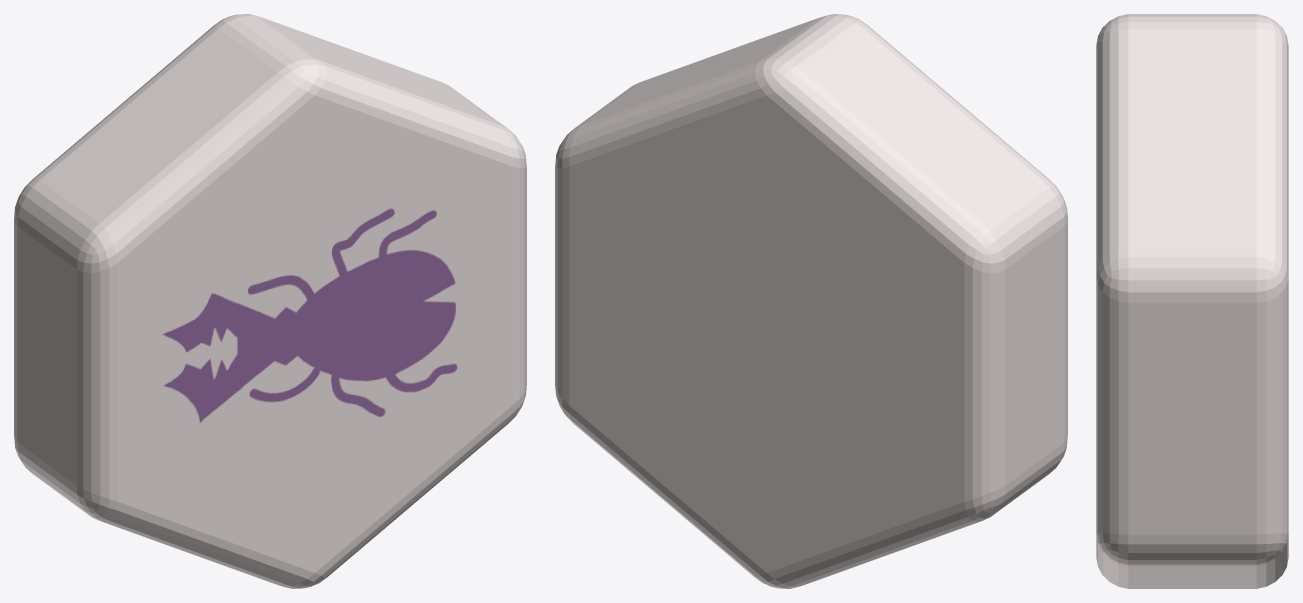
3 renders of one model, left to right at view 1: azimuth 30°, elevation 25°; view 2: azimuth 150°, elevation 25°; view 3: azimuth 270°, elevation 25°, orthographic. The views are drawn at different scales.
Parts seen in each view (by area): view 1: wB; view 2: wB; view 3: wB.
Part boxes in pixels (x1=…): wB: x1=14, y1=14, x2=526, y2=588; wB: x1=555, y1=14, x2=1067, y2=588; wB: x1=1096, y1=14, x2=1288, y2=588.
Size of the model in its own units: 0.0866 by 0.0973 by 0.03.
1 material, 1 textured.
